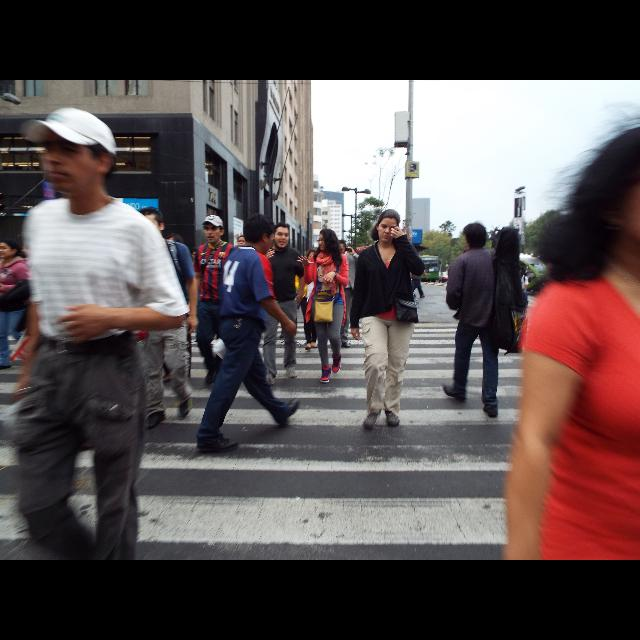head: (42, 112, 114, 192), (243, 213, 275, 254), (137, 208, 165, 240), (376, 210, 400, 242), (203, 215, 224, 243), (464, 224, 486, 248), (272, 225, 290, 249), (318, 229, 336, 251), (166, 234, 184, 254), (1, 240, 18, 258), (306, 249, 320, 265), (337, 240, 348, 256), (518, 266, 524, 274), (415, 255, 421, 261)
person: (194, 212, 304, 456), (122, 204, 200, 434), (348, 208, 428, 432), (440, 221, 510, 419), (190, 212, 242, 392), (295, 227, 351, 385), (255, 219, 308, 385), (154, 230, 196, 388), (0, 235, 34, 371), (328, 236, 366, 350), (292, 246, 328, 352), (409, 256, 426, 300), (514, 264, 528, 312)
